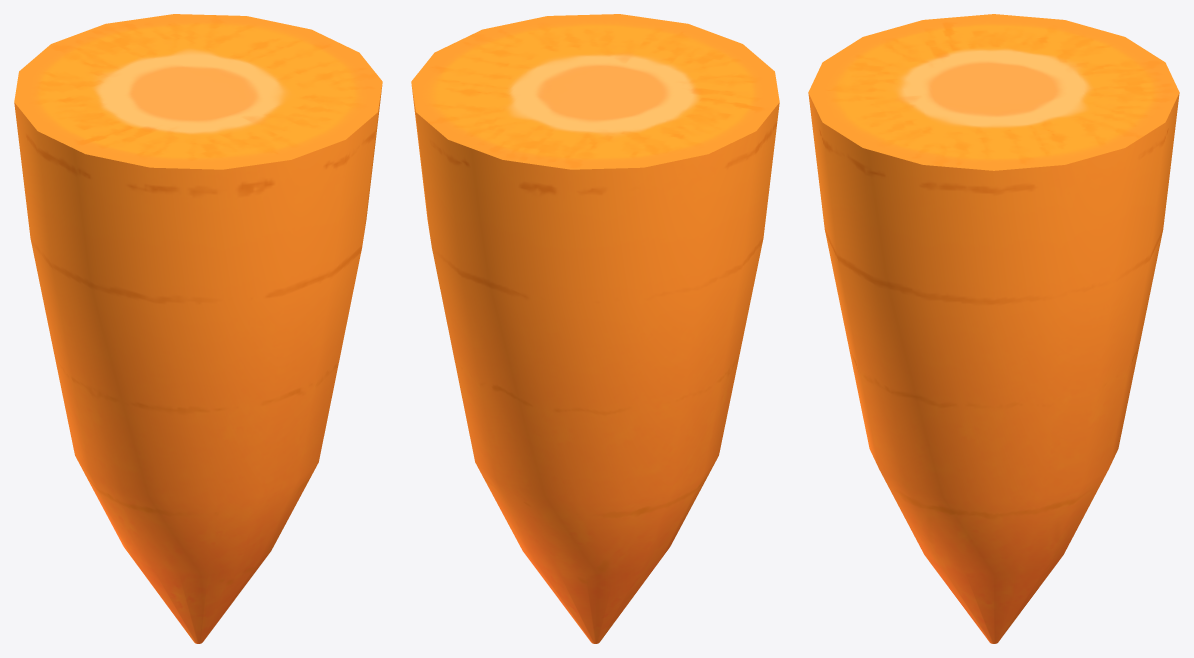
Rendered from carrot_bottom.glb.
3 renders of one model, left to right at view 1: azimuth 30°, elevation 25°; view 2: azimuth 150°, elevation 25°; view 3: azimuth 270°, elevation 25°, orthographic.
Parts seen in each view (by area): view 1: CarrotBottomA, CarrotBottomB; view 2: CarrotBottomA, CarrotBottomB; view 3: CarrotBottomA, CarrotBottomB.
Part boxes in pixels (x1=…): CarrotBottomA: x1=14, y1=85, x2=382, y2=643; CarrotBottomB: x1=14, y1=14, x2=382, y2=169; CarrotBottomA: x1=411, y1=85, x2=779, y2=643; CarrotBottomB: x1=411, y1=14, x2=779, y2=169; CarrotBottomA: x1=808, y1=93, x2=1179, y2=643; CarrotBottomB: x1=808, y1=14, x2=1179, y2=170.
Bounding box in the file's own units: 0.4898 × 0.8002 × 0.4898.
Materials: 1 (1 with a texture image).
